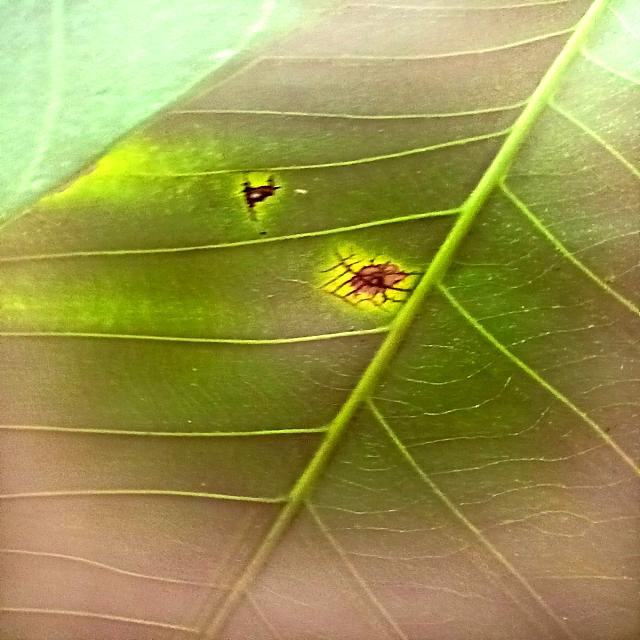Corynespora: (318, 245, 425, 310), (240, 174, 278, 223)
